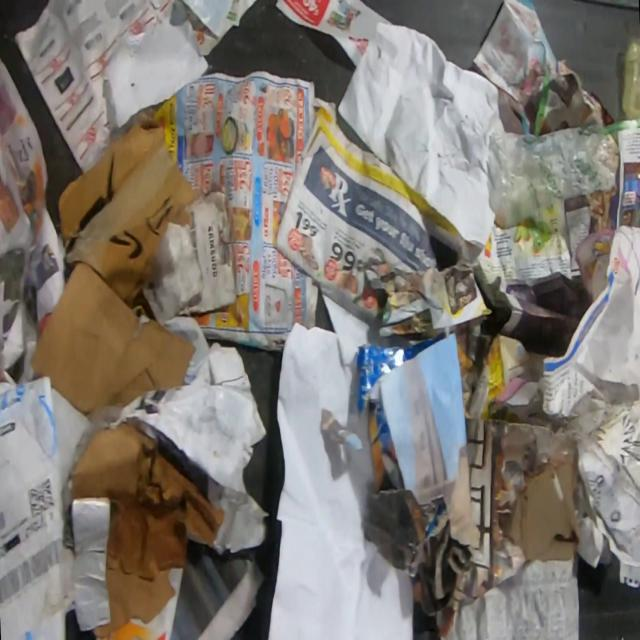cardboard: (68, 421, 226, 639), (57, 112, 201, 315), (31, 262, 198, 415), (364, 442, 484, 630), (354, 331, 448, 494), (0, 420, 68, 640), (563, 382, 640, 564), (142, 190, 238, 327)
soft_plastic: (486, 124, 620, 230), (0, 376, 58, 459), (181, 0, 237, 40), (620, 36, 640, 121)
